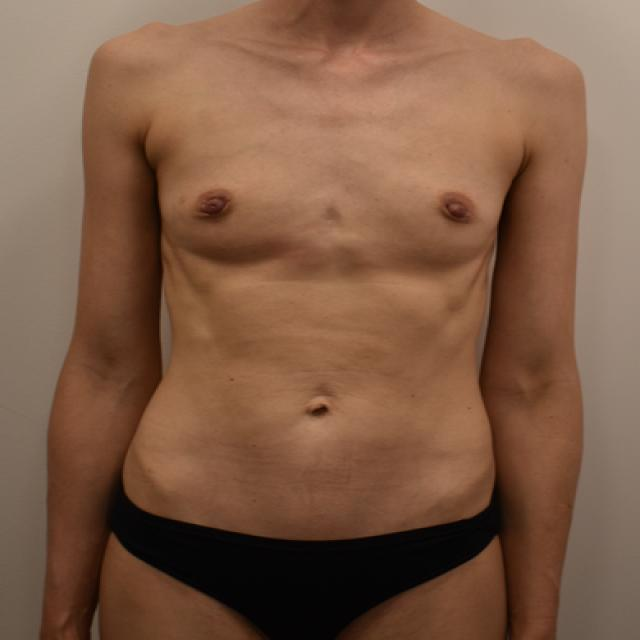Seno ileso: (152, 152, 318, 272), (345, 156, 510, 275)
